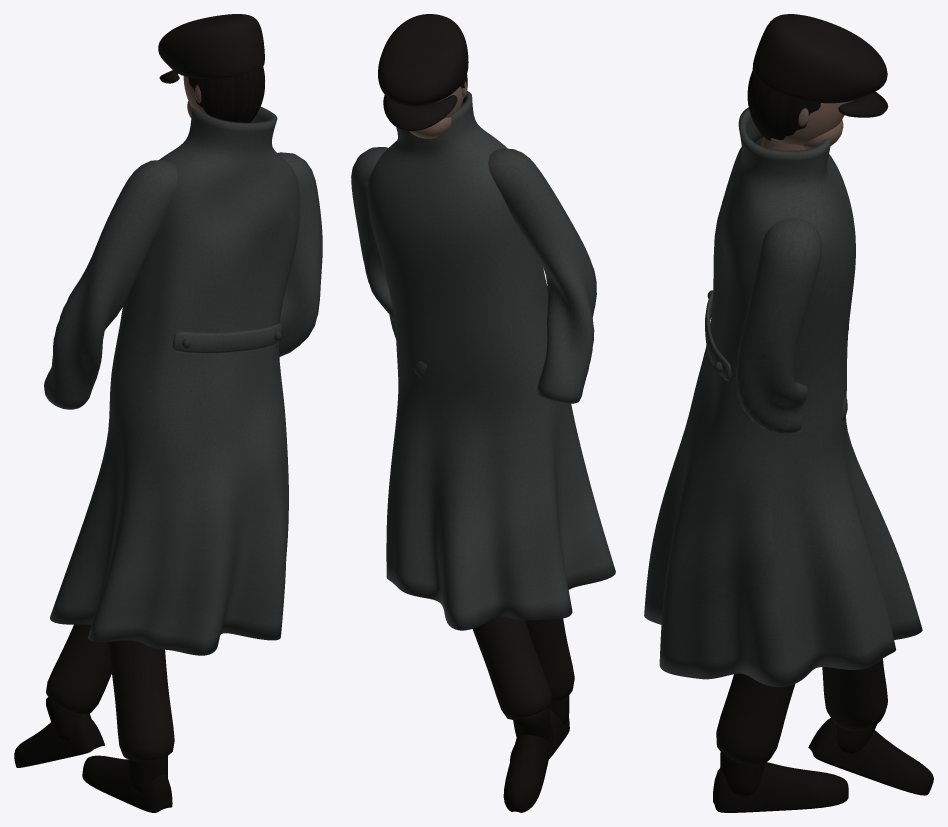
The model's file is worker-leaning-on-wall.glb.
3 renders of one model, left to right at view 1: azimuth 30°, elevation 25°; view 2: azimuth 150°, elevation 25°; view 3: azimuth 270°, elevation 25°, orthographic. The views are drawn at different scales.
Parts seen in each view (by area): view 1: worker-leaning-on-wall-body; view 2: worker-leaning-on-wall-body; view 3: worker-leaning-on-wall-body.
Part boxes in pixels (bbox=[...]): worker-leaning-on-wall-body: bbox=[14, 14, 322, 812]; worker-leaning-on-wall-body: bbox=[351, 14, 615, 812]; worker-leaning-on-wall-body: bbox=[644, 14, 933, 812].
Bounding box in the file's own units: 0.6198 × 1.75 × 0.5387.
7 materials, 5 textured.
